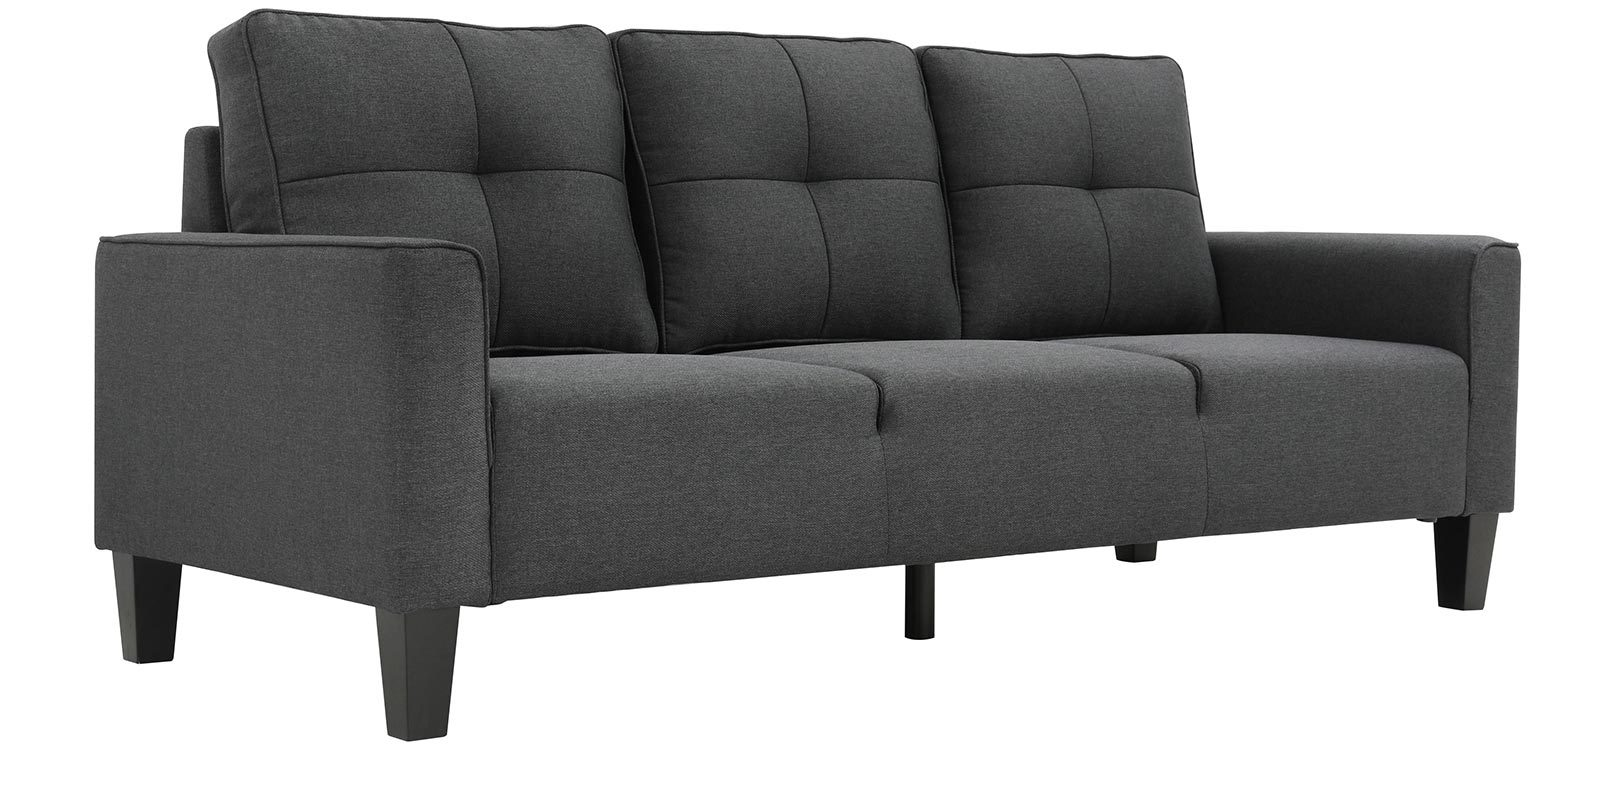Alice Three Seater Sofa in Grey Colour by Zofa: (67, 1, 1534, 734)
